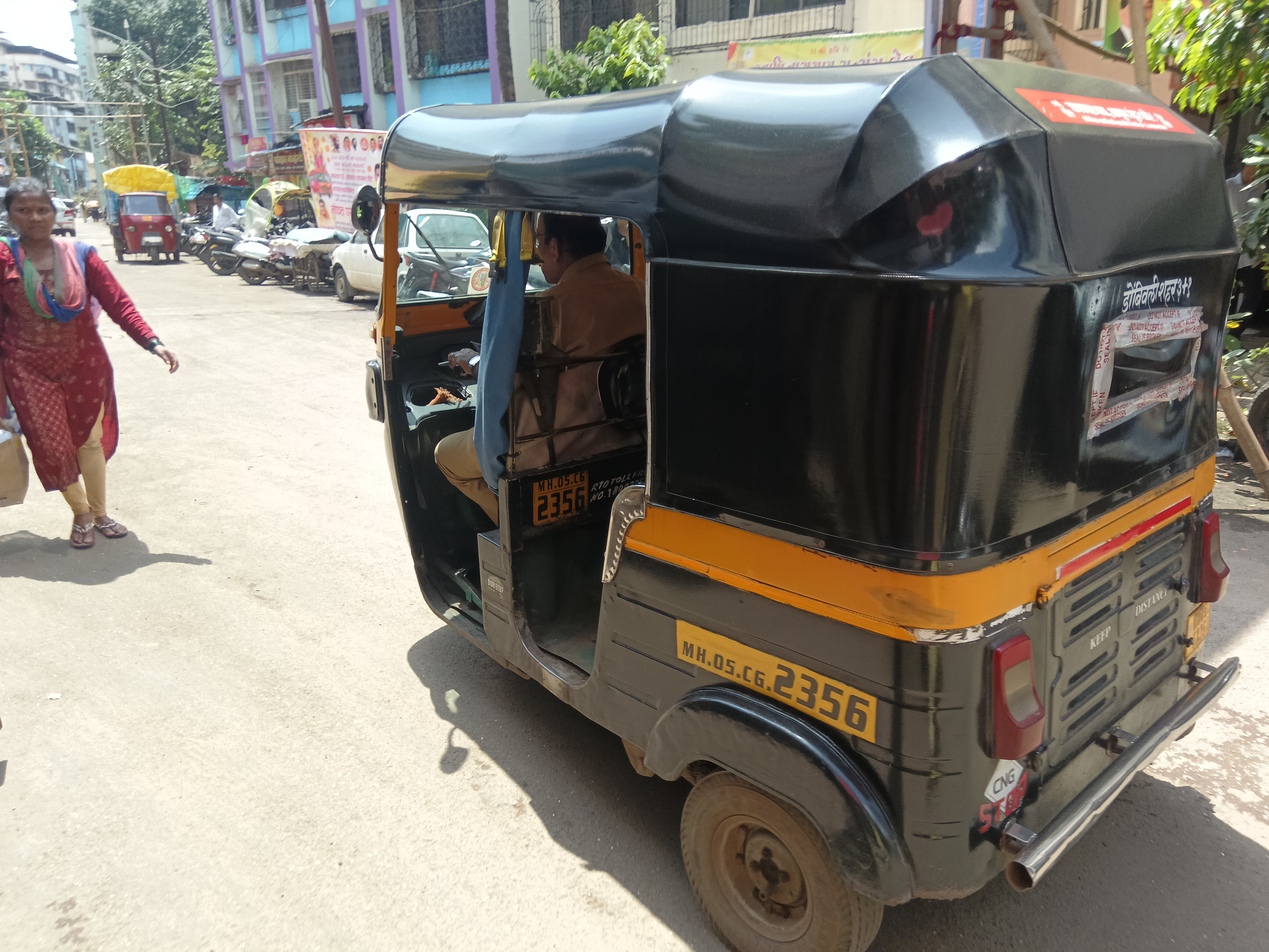vehicle: (675, 618, 891, 741)
